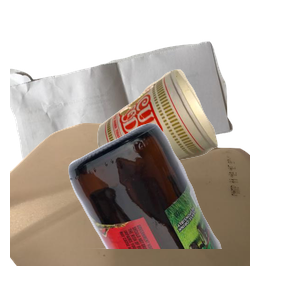glass: (66, 120, 300, 300)
paper: (10, 39, 236, 205)
plastic: (10, 120, 250, 300)
trash: (95, 67, 300, 238)
